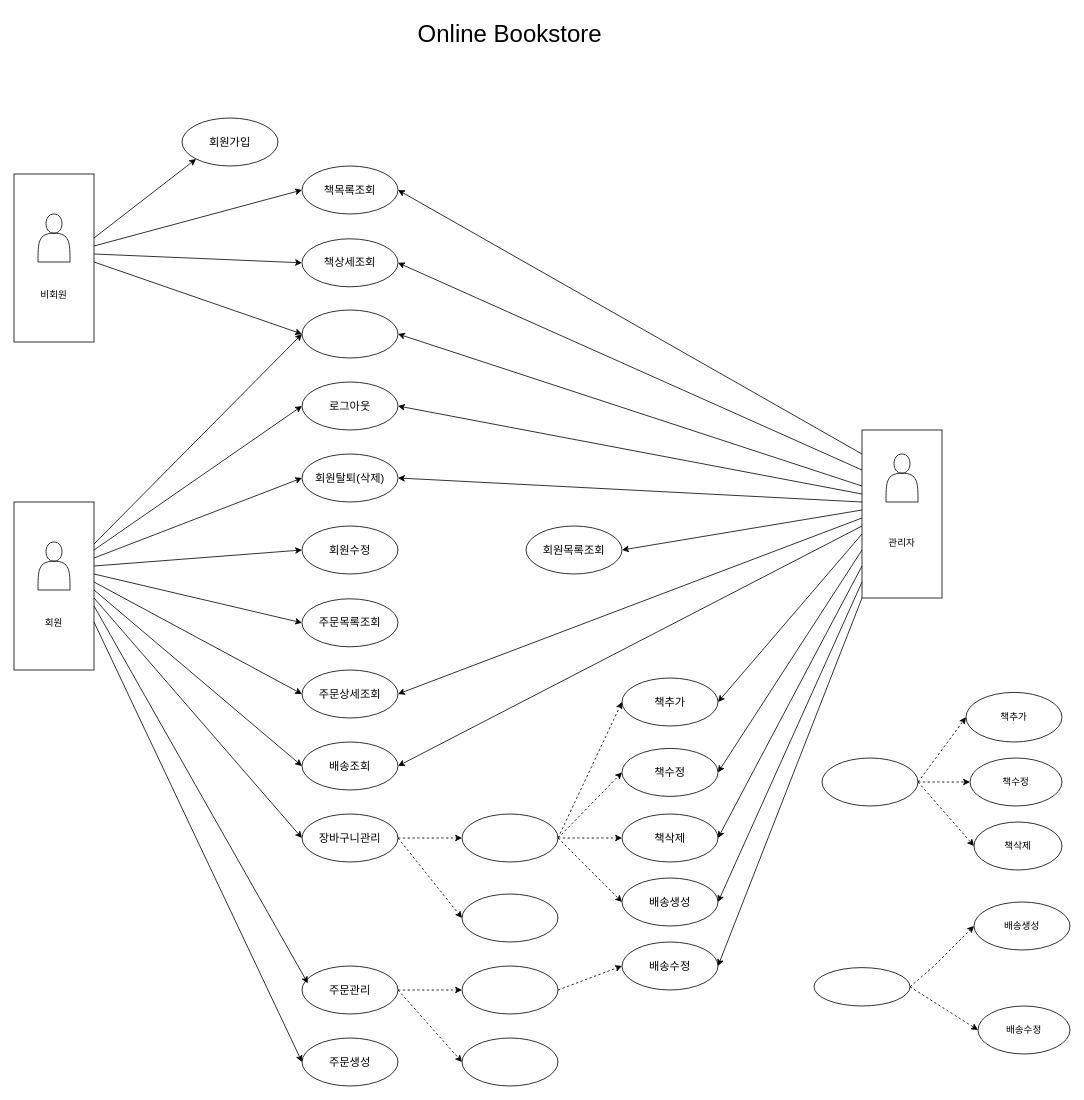
The diagram is 1084 pixels wide and 1100 high, and some of its shapes have lost their labels. The centre of each missing label's shape, as x and y in pixels:
도서관리: the point at 869,781
로그인: the point at 349,333
배송관리: the point at 861,986
장바구니삭제: the point at 509,917
장바구니생성: the point at 509,837
주문조회: the point at 509,989
주문취소: the point at 509,1061
